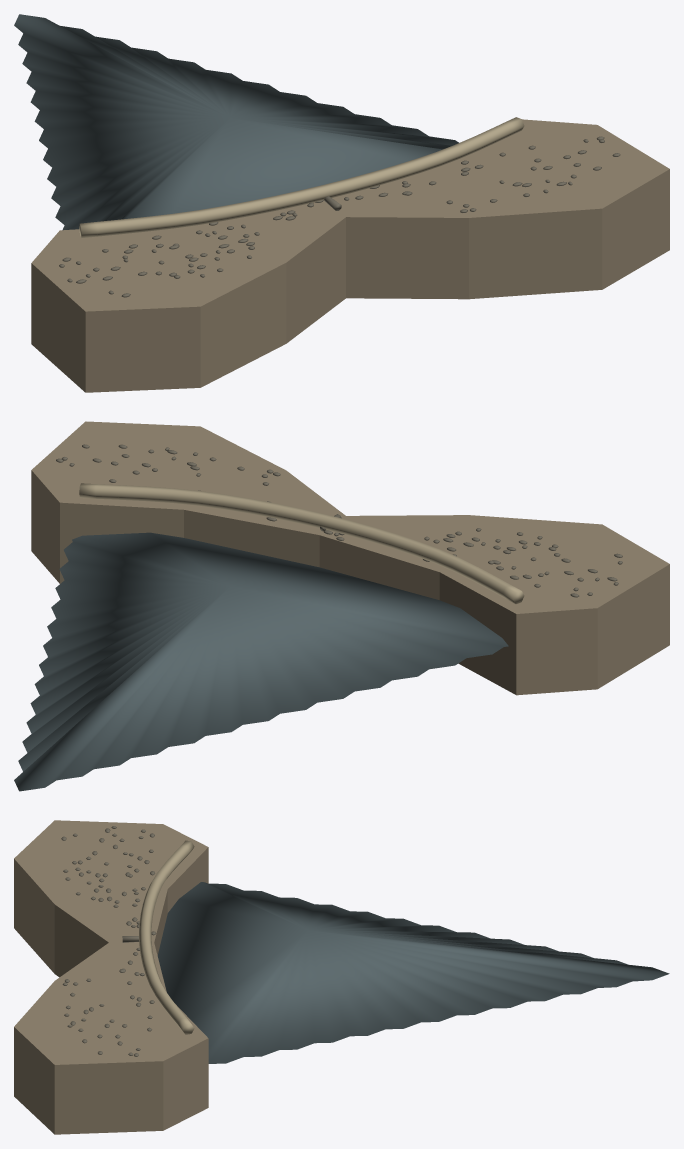
Rendered from SharkToothFossil.fbx.
3 renders of one model, top to bottom at view 1: azimuth 30°, elevation 25°; view 2: azimuth 150°, elevation 25°; view 3: azimuth 270°, elevation 25°, orthographic. The views are drawn at different scales.
Visible parts, largest first — view 1: Material group SharkToothFossil_PorousRoot, Material group SharkToothFossil_FossilEnamel, Material group SharkToothFossil_CrownRootBoundary, Material group SharkToothFossil_RootGranules; view 2: Material group SharkToothFossil_FossilEnamel, Material group SharkToothFossil_PorousRoot, Material group SharkToothFossil_CrownRootBoundary, Material group SharkToothFossil_RootGranules; view 3: Material group SharkToothFossil_FossilEnamel, Material group SharkToothFossil_PorousRoot, Material group SharkToothFossil_CrownRootBoundary, Material group SharkToothFossil_RootGranules.
Part boxes in pixels (box(x1,y1,x2,y2)): Material group SharkToothFossil_PorousRoot: box(31, 119, 669, 392); Material group SharkToothFossil_FossilEnamel: box(14, 14, 458, 230); Material group SharkToothFossil_CrownRootBoundary: box(79, 117, 524, 237); Material group SharkToothFossil_RootGranules: box(59, 136, 620, 297); Material group SharkToothFossil_FossilEnamel: box(14, 532, 508, 791); Material group SharkToothFossil_PorousRoot: box(31, 421, 669, 695); Material group SharkToothFossil_CrownRootBoundary: box(79, 483, 524, 603); Material group SharkToothFossil_RootGranules: box(56, 444, 622, 597); Material group SharkToothFossil_FossilEnamel: box(157, 882, 669, 1063); Material group SharkToothFossil_PorousRoot: box(14, 820, 208, 1134); Material group SharkToothFossil_CrownRootBoundary: box(139, 840, 194, 1034); Material group SharkToothFossil_RootGranules: box(61, 826, 156, 1056).
Bounding box in the file's own units: 0.8828 × 0.1394 × 1.
